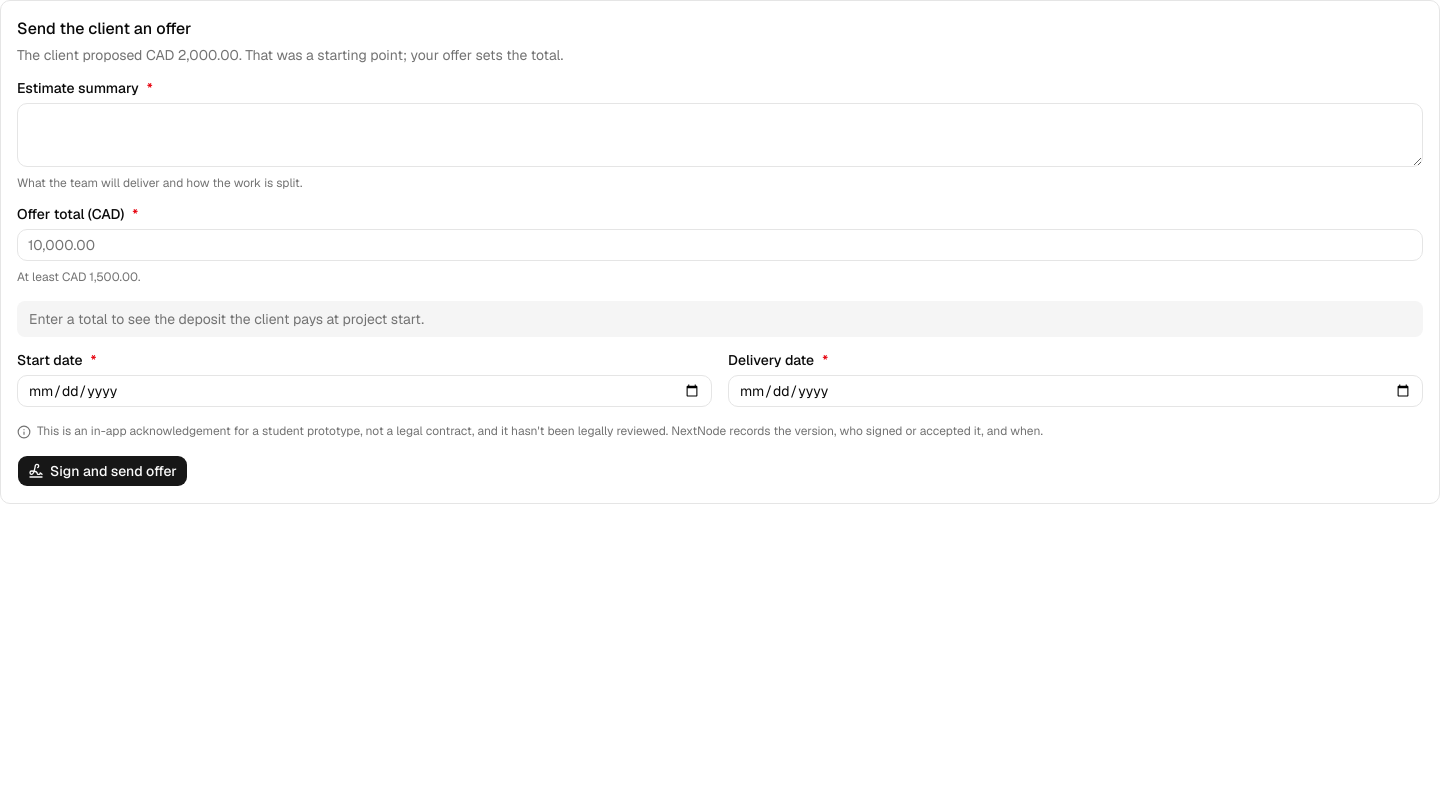
Test: SendOfferForm › refuses a total below the minimum before sending anything
The width and height of the screenshot is (1440, 810).
Type "Five sprints: booking, payments, admin." into the text box labelled "Estimate summary *" at (720, 135), box top-left (17, 103), bottom-right (1423, 167)
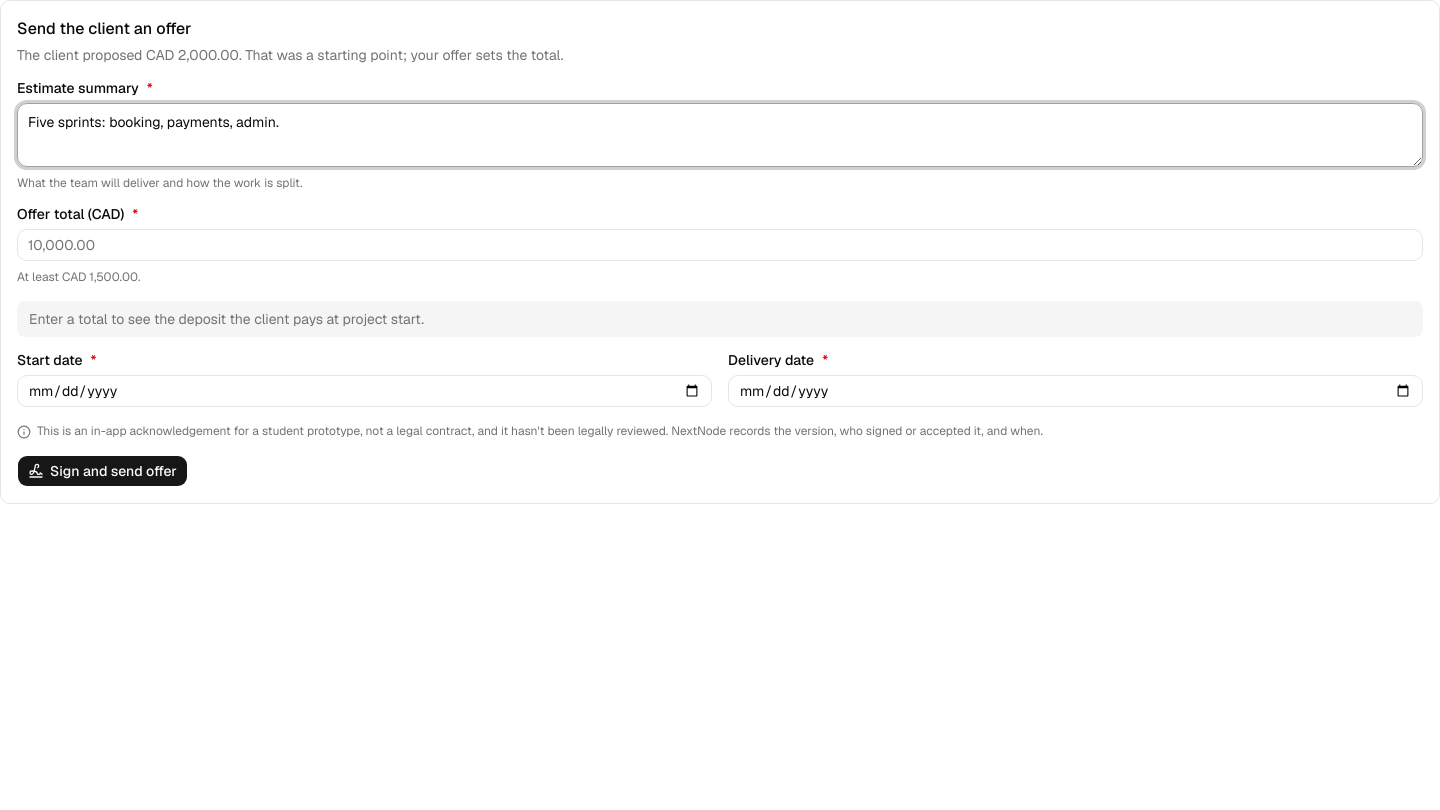
Type "1499.99" into the field labelled "Offer total (CAD) *" at (720, 245), box top-left (17, 229), bottom-right (1423, 261)
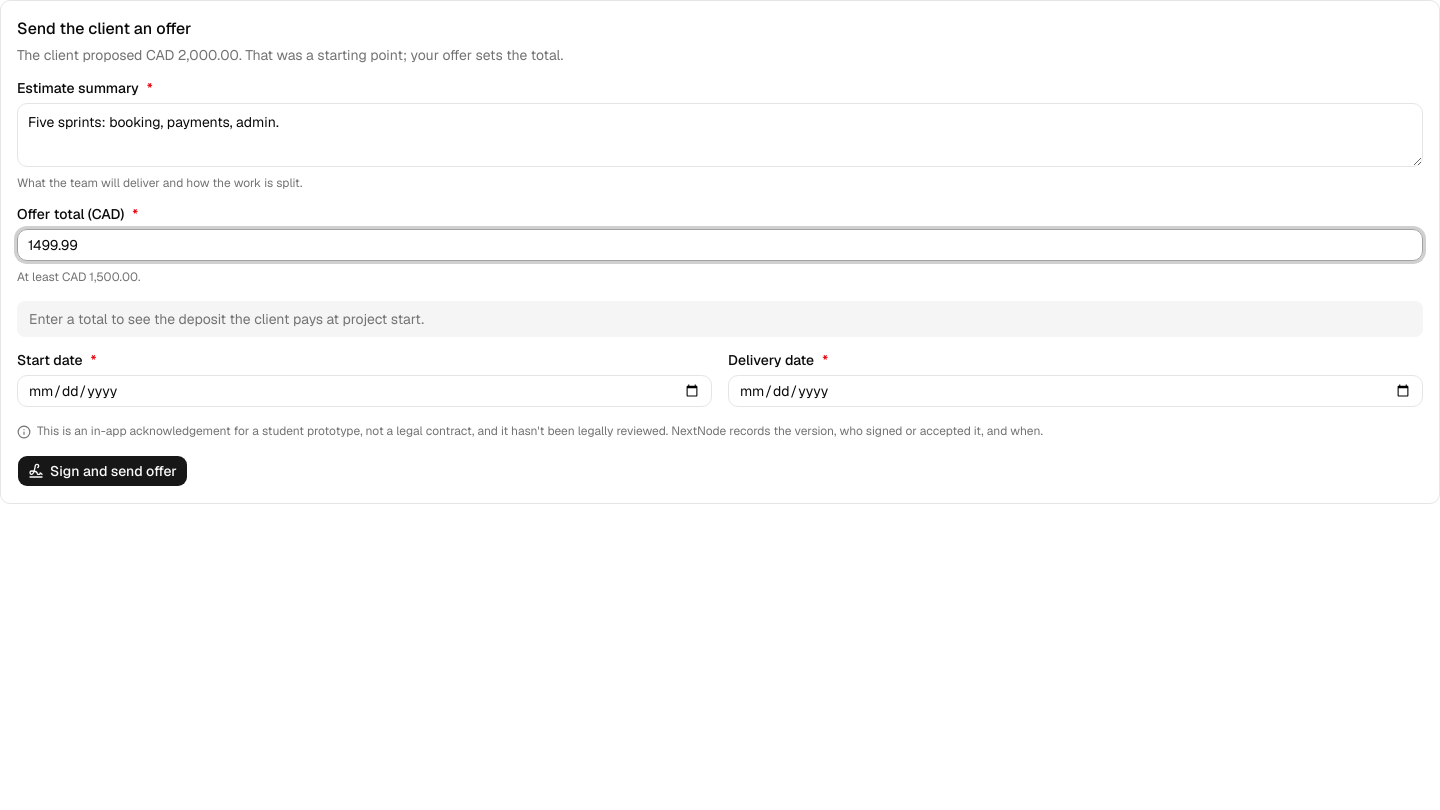
Type "2026-11-09" into the date field labelled "Start date *" at (364, 391), box top-left (17, 375), bottom-right (712, 407)
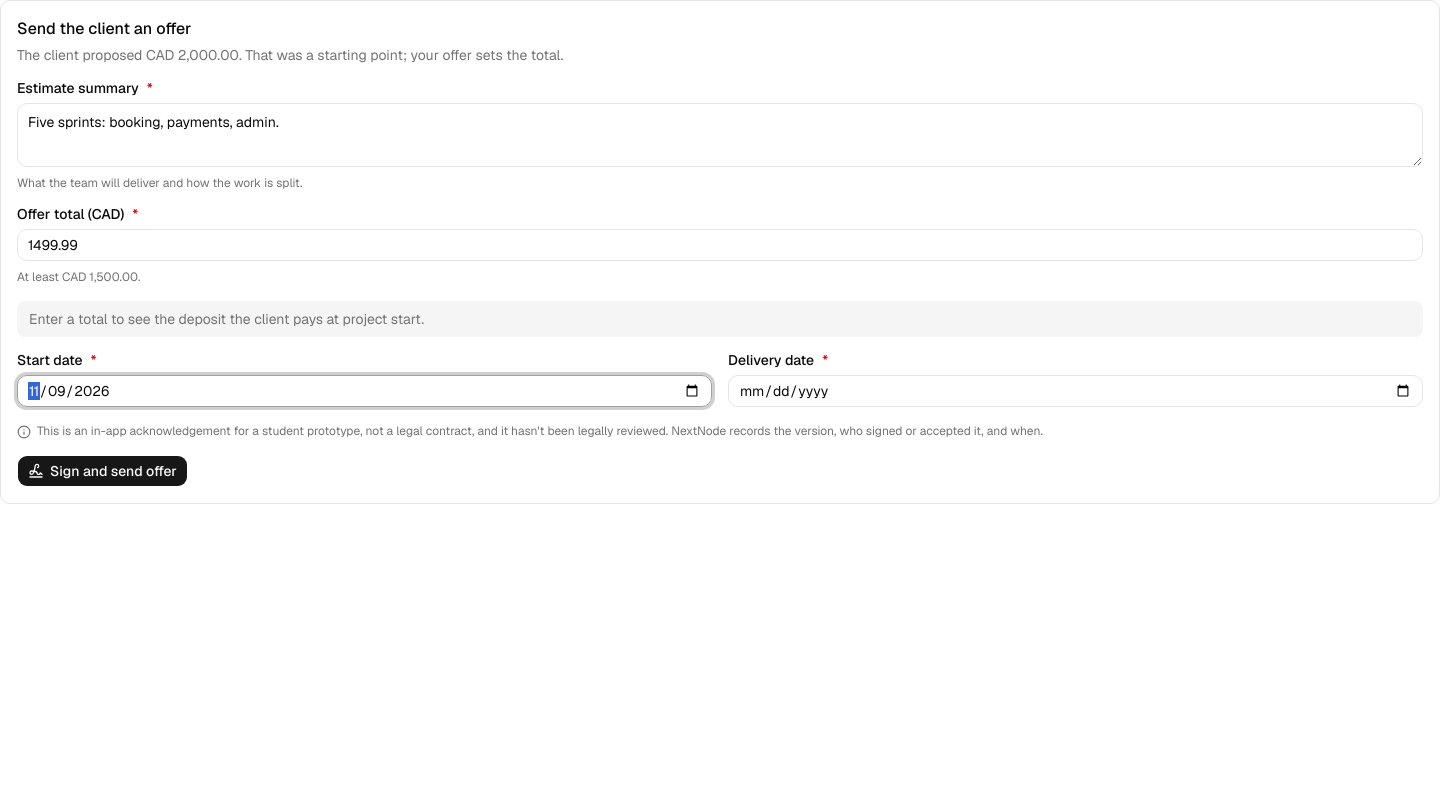
Type "2027-02-01" into the date field labelled "Delivery date *" at (1076, 391), box top-left (728, 375), bottom-right (1423, 407)
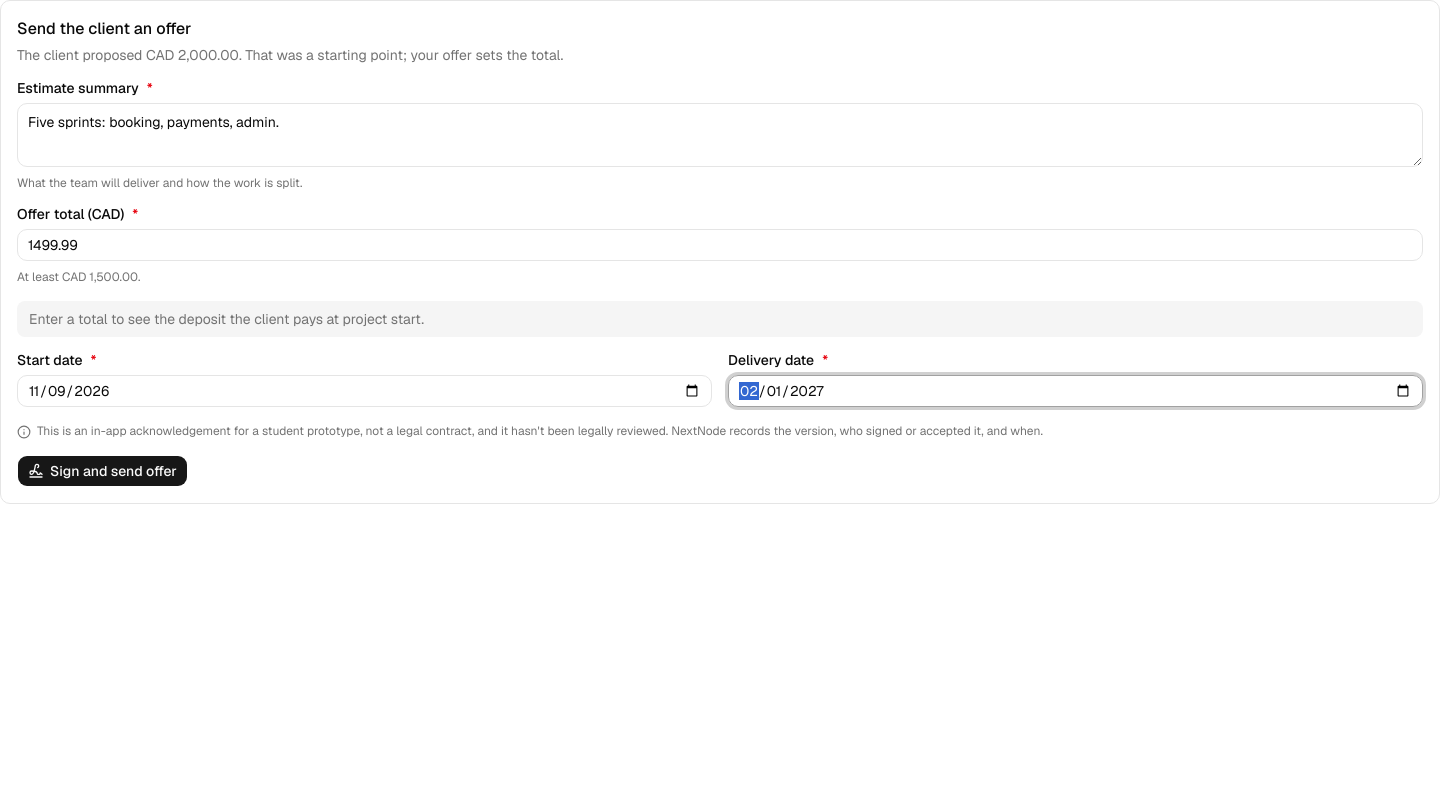
Click the button "Sign and send offer" at (102, 471), box top-left (17, 455), bottom-right (188, 487)
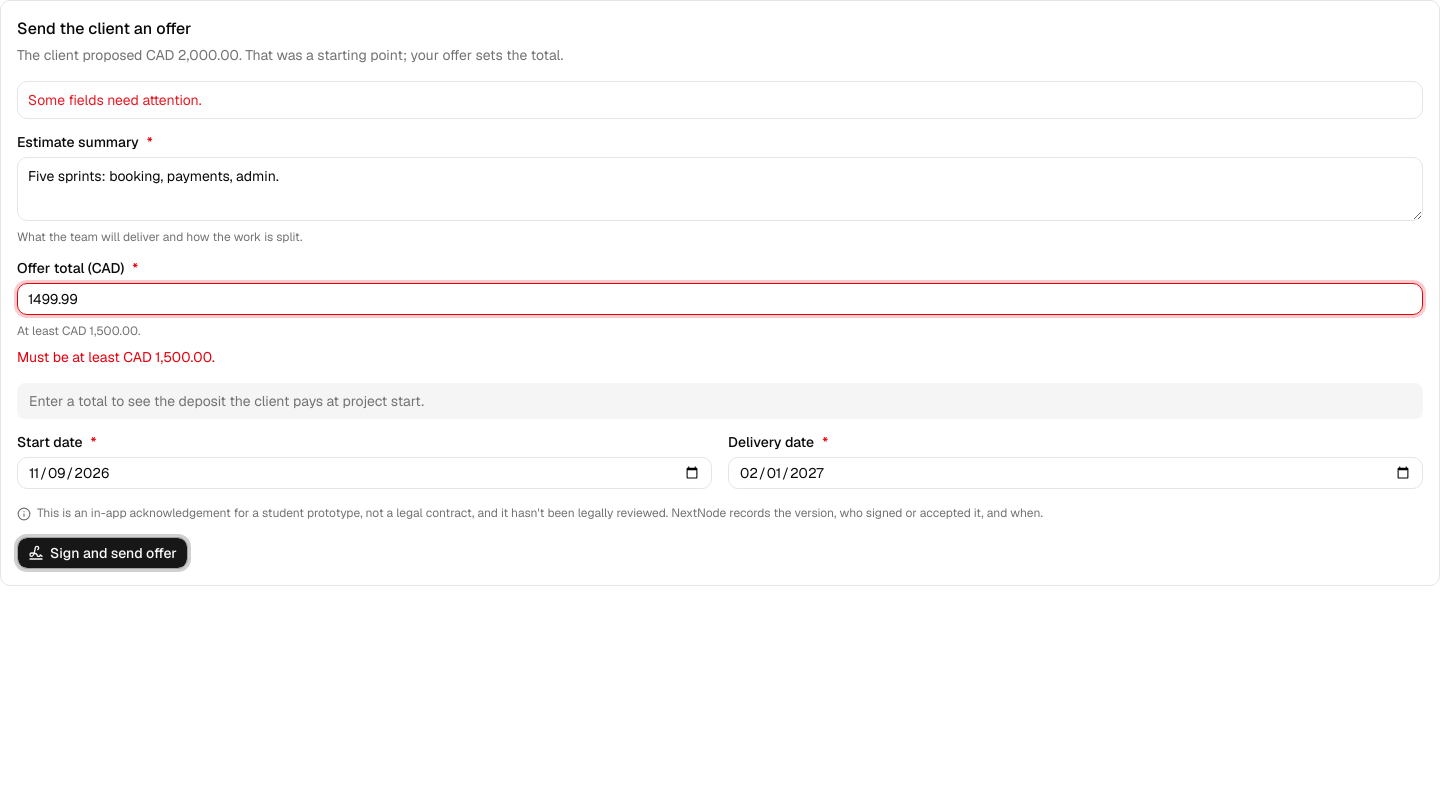
Check: the text "Must be at least CAD 1,500.00." is shown, box top-left (17, 348), bottom-right (215, 366)
